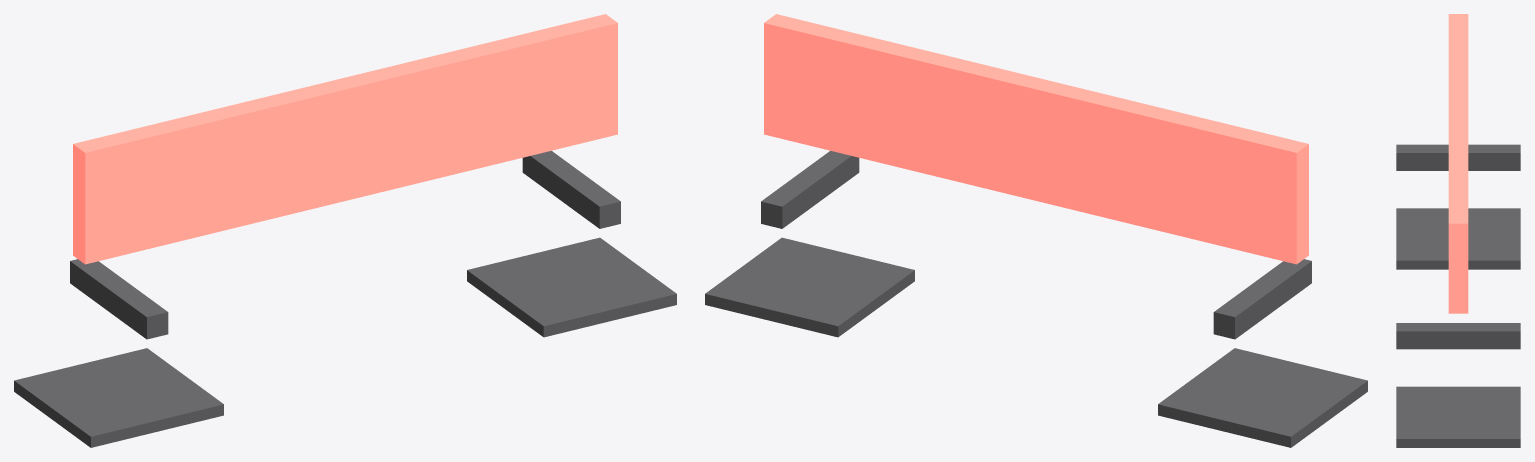
File: barrier.glb
3 renders of one model, left to right at view 1: azimuth 30°, elevation 25°; view 2: azimuth 150°, elevation 25°; view 3: azimuth 270°, elevation 25°, orthographic. The views are drawn at different scales.
Parts seen in each view (by area): view 1: barrier; view 2: barrier; view 3: barrier.
Boxes of the visible parts, x1,y1,x2,y2 form: barrier: (14,14,676,447); barrier: (705,14,1367,447); barrier: (1396,14,1520,447).
Bounding box in the file's own units: 2.2 × 0.95 × 0.5.
